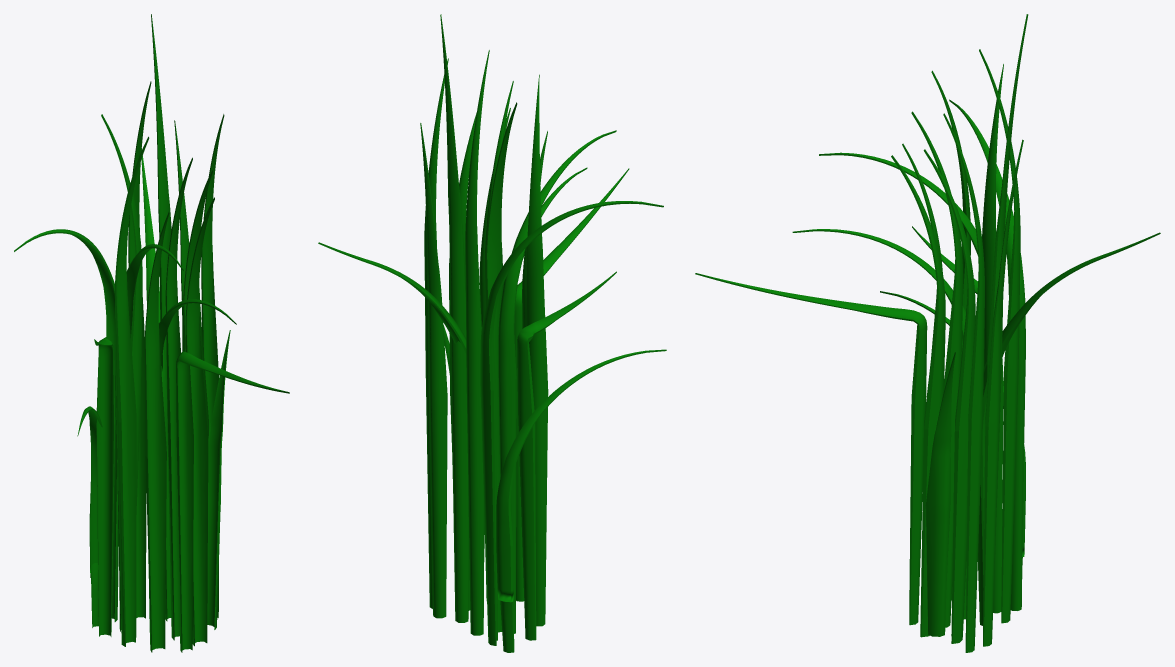
File: Zattsou.fbx
3 views of the same model, side by side, from view 1: azimuth 30°, elevation 25°; view 2: azimuth 150°, elevation 25°; view 3: azimuth 270°, elevation 25° (orthographic). The views are drawn at different scales.
Parts seen in each view (by area): view 1: pPlane57; view 2: pPlane57; view 3: pPlane57.
Boxes of the visible parts, bbox=[...] form: pPlane57: bbox=[14, 14, 289, 652]; pPlane57: bbox=[318, 14, 666, 652]; pPlane57: bbox=[695, 14, 1160, 652].
Size of the model in its own units: 22.66 by 56.63 by 38.42.
